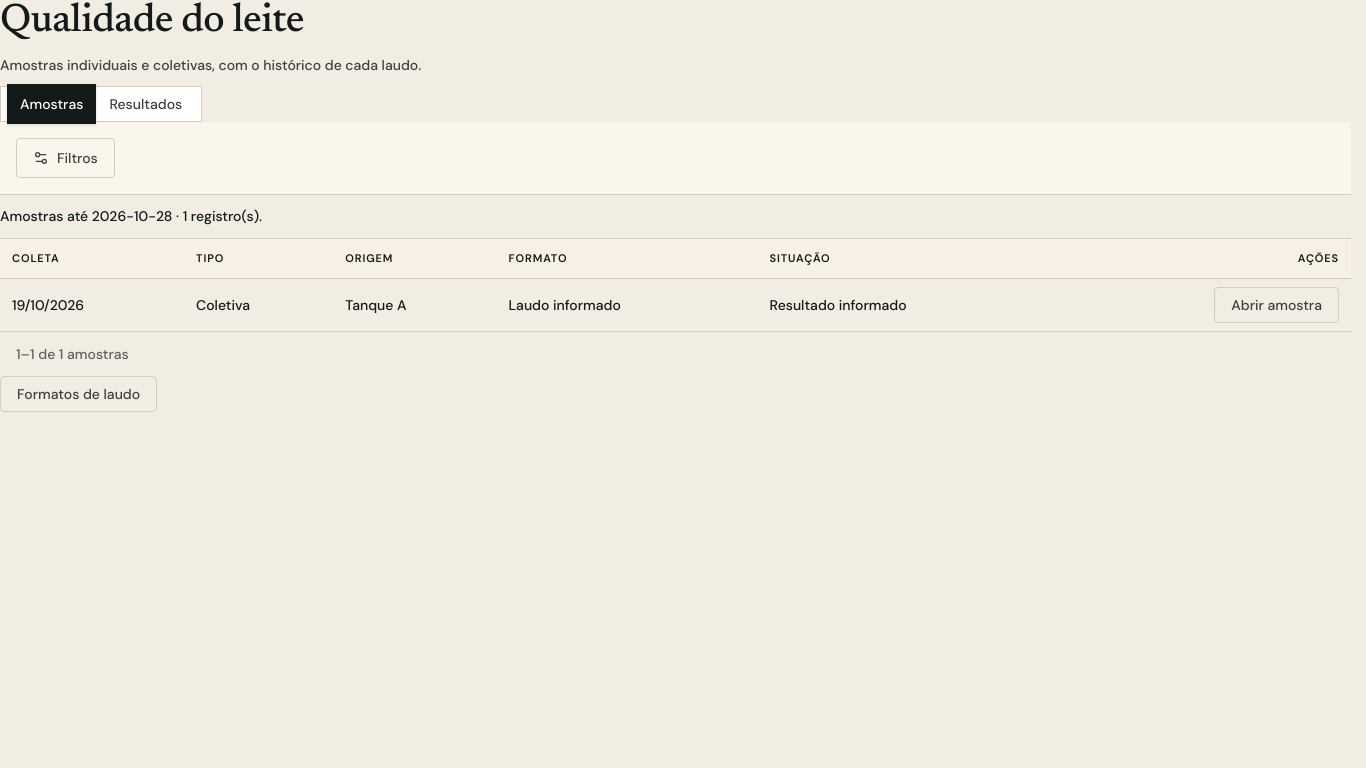
Scenario: mostra zero e falso do laudo sem converter em ausência
This screenshot has width=1366, height=768.
Expected: the text "Tanque A" is shown, [333,279,497,331]
Click the button "Abrir amostra" at x=1277, y=305, box [1214,287,1339,323]
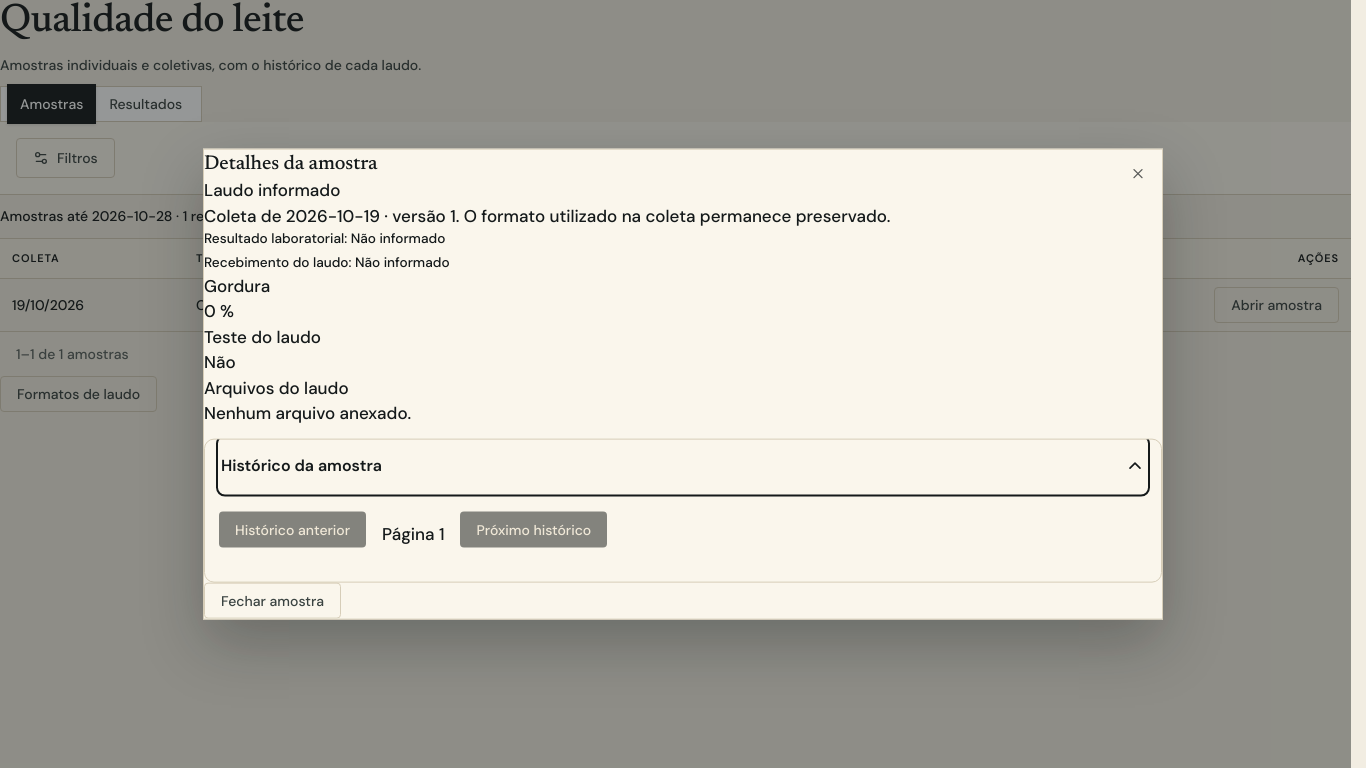
Expected: the text "0 %" is shown, [204,300,234,322]
Expected: the text "Não" is shown, [204,351,236,373]
